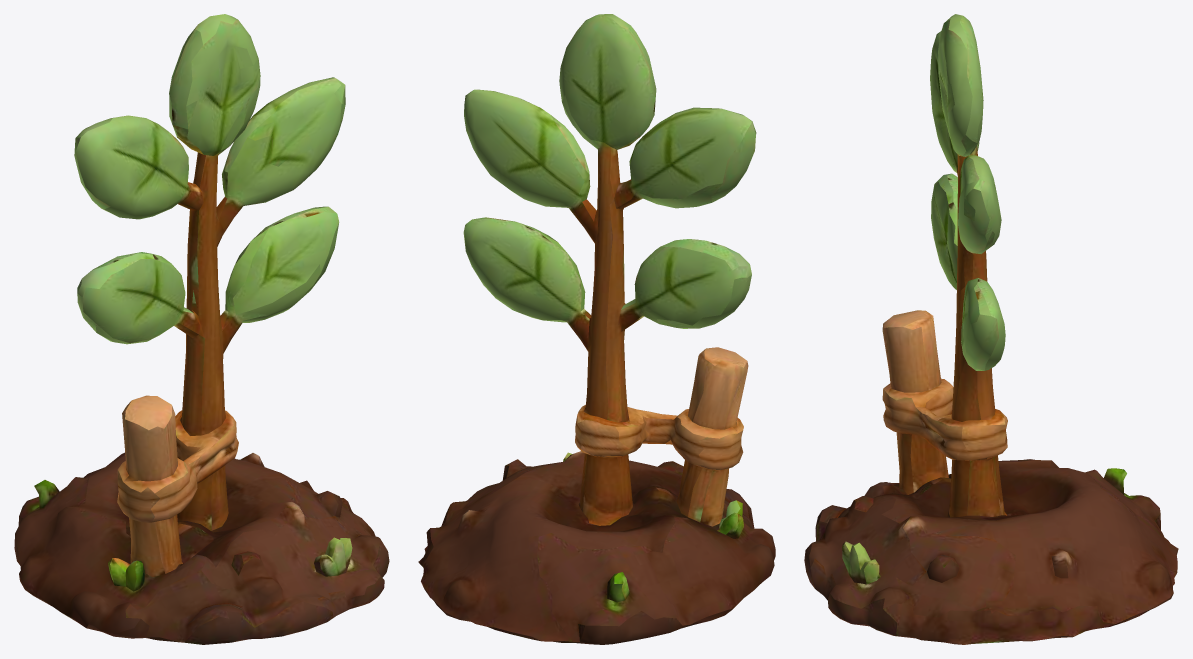
File: sapling.glb
3 views of the same model, side by side, from view 1: azimuth 30°, elevation 25°; view 2: azimuth 150°, elevation 25°; view 3: azimuth 270°, elevation 25° (orthographic). The views are drawn at different scales.
Parts seen in each view (by area): view 1: sapling_s71; view 2: sapling_s71; view 3: sapling_s71.
Part boxes in pixels (<box>): sapling_s71: <box>14,14,389,644</box>; sapling_s71: <box>418,14,775,644</box>; sapling_s71: <box>804,14,1178,644</box>.
Bounding box in the file's own units: 0.5881 × 1 × 0.613.
Materials: 1 (1 with a texture image).
